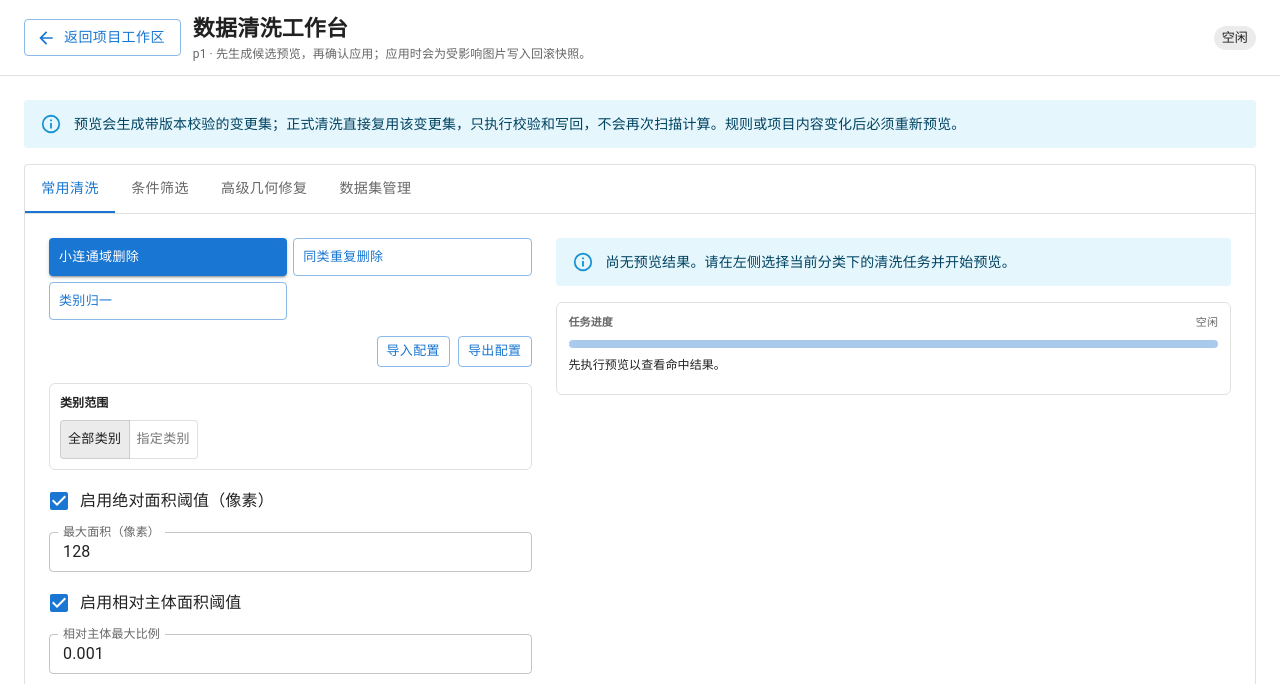
Scenario: DataCleaningPage › uses standalone tabs for the four cleaning task categories
Expected: the heading "数据清洗工作台" is shown, [193,16,348,41]
Expected: the button "小连通域删除" is shown, [49,238,287,276]
Click the tab "条件筛选": [160, 189] box [115,165,205,213]
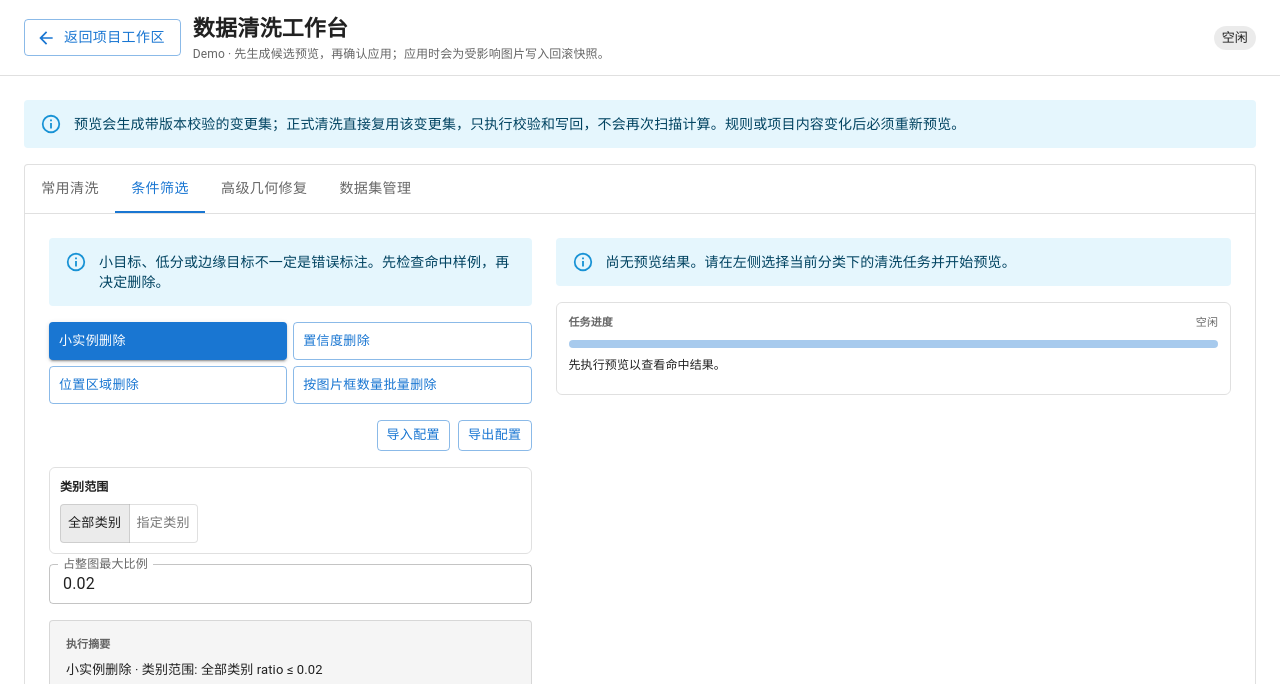
Result: the button "置信度删除" is shown at [293,322,532,360]
Result: the button "小连通域删除" is gone
